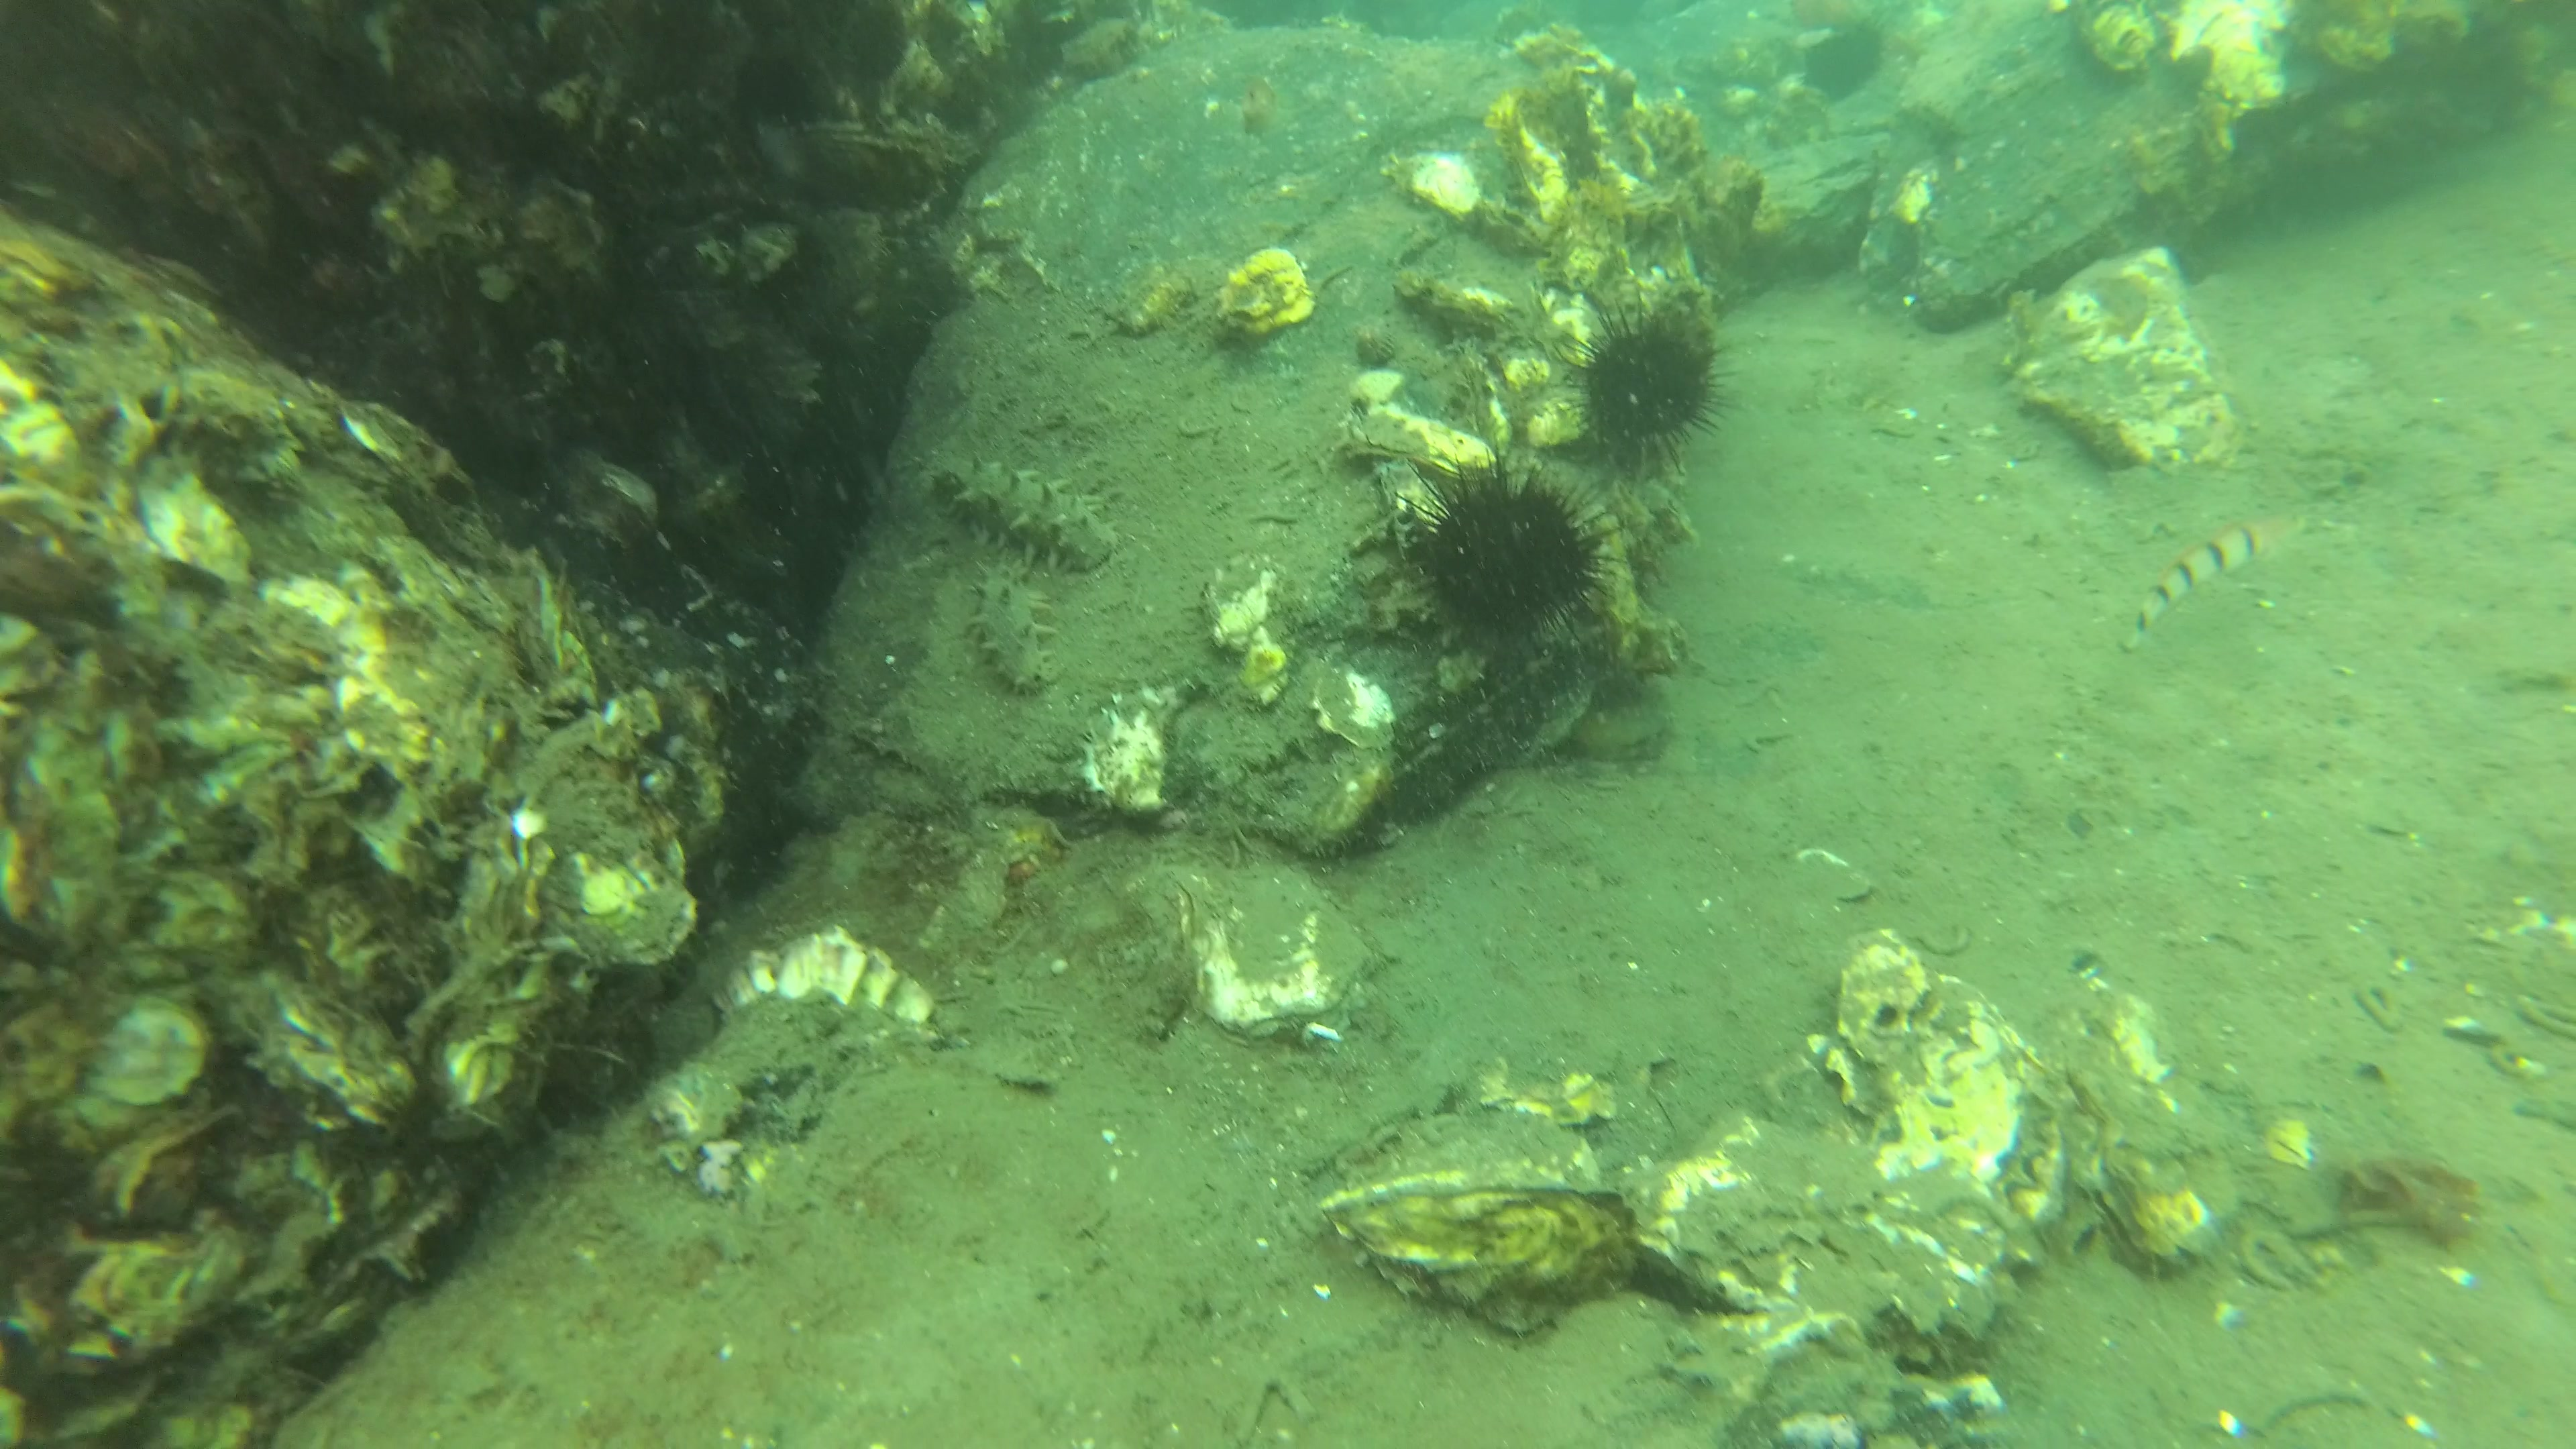echinus: (1385, 444, 1612, 672), (1555, 292, 1741, 467)
holothurian: (924, 446, 1134, 571), (962, 563, 1063, 711)
